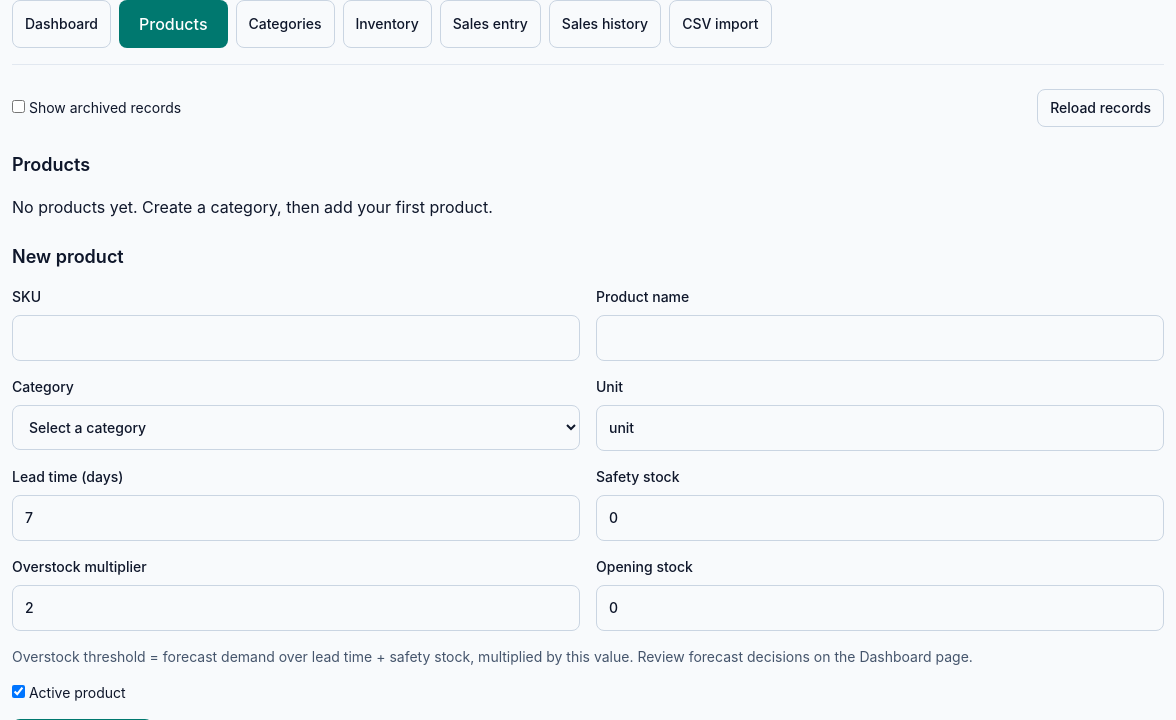
Test: manager creates a product with stock and replenishment configuration
The width and height of the screenshot is (1176, 720).
Type "RICE-1" into the field labelled "SKU".
click(296, 338); type("RICE-1")  # box [12,315,580,361]
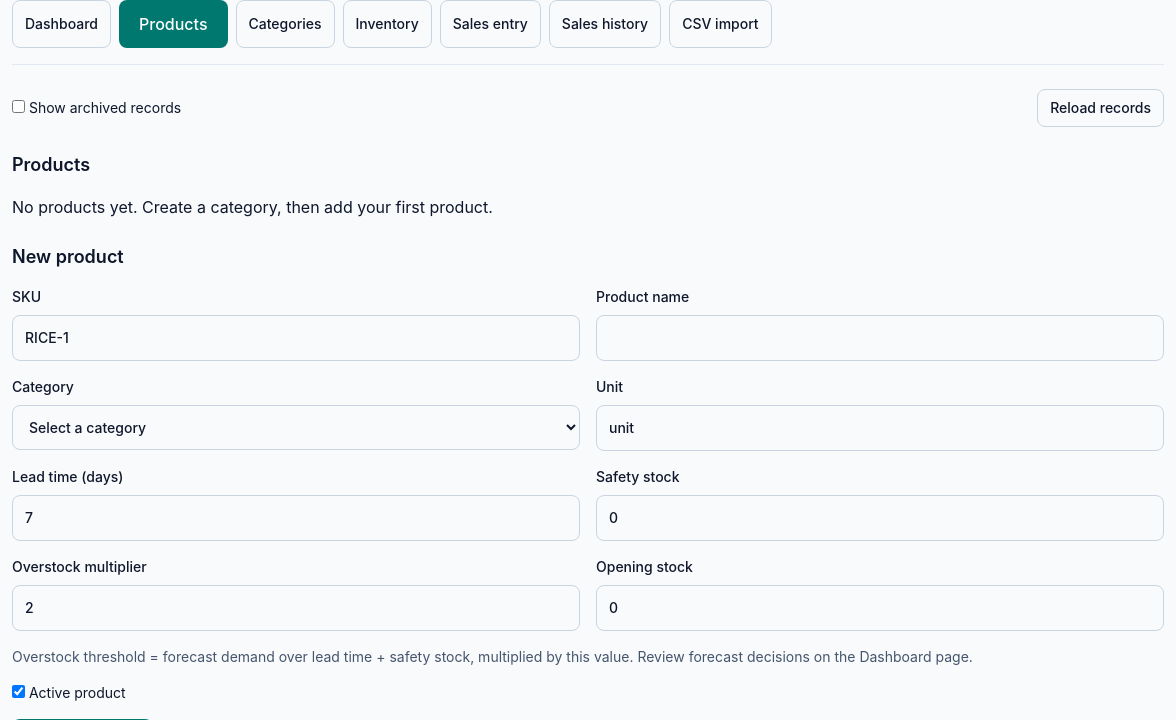
Type "Rice" into the field labelled "Product name".
click(880, 338); type("Rice")  # box [596,315,1164,361]
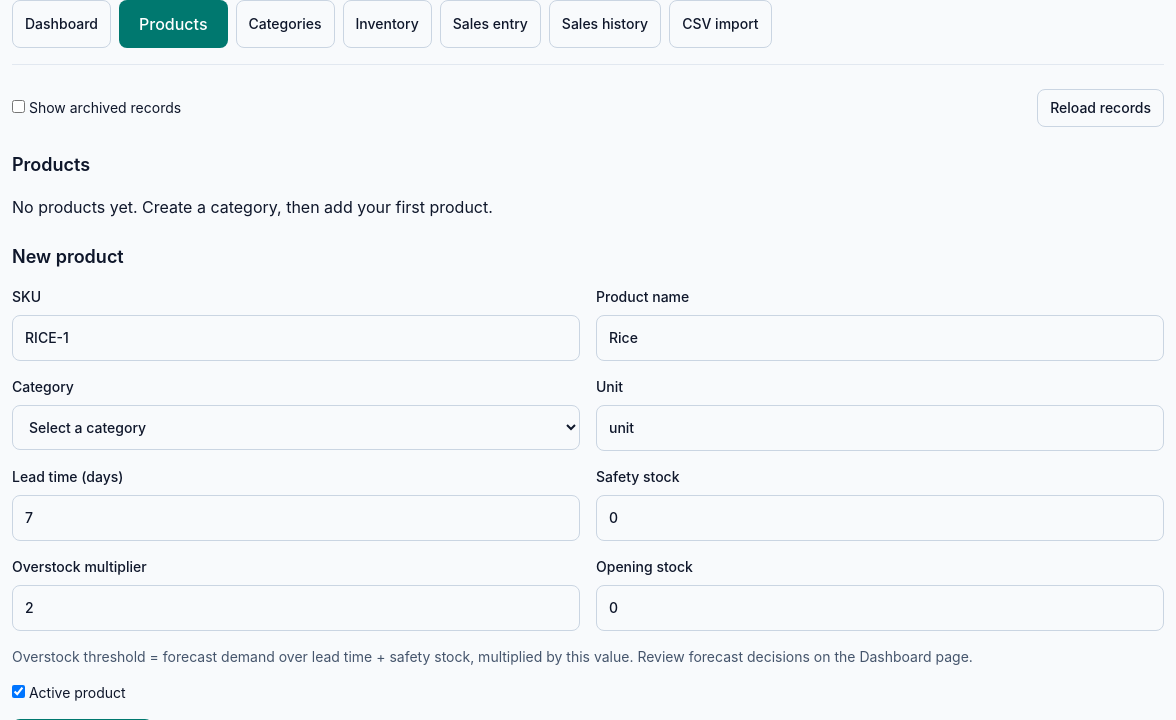
Select "Groceries" in the dropdown labelled "Category" at [296, 428], box [12,405,580,450]
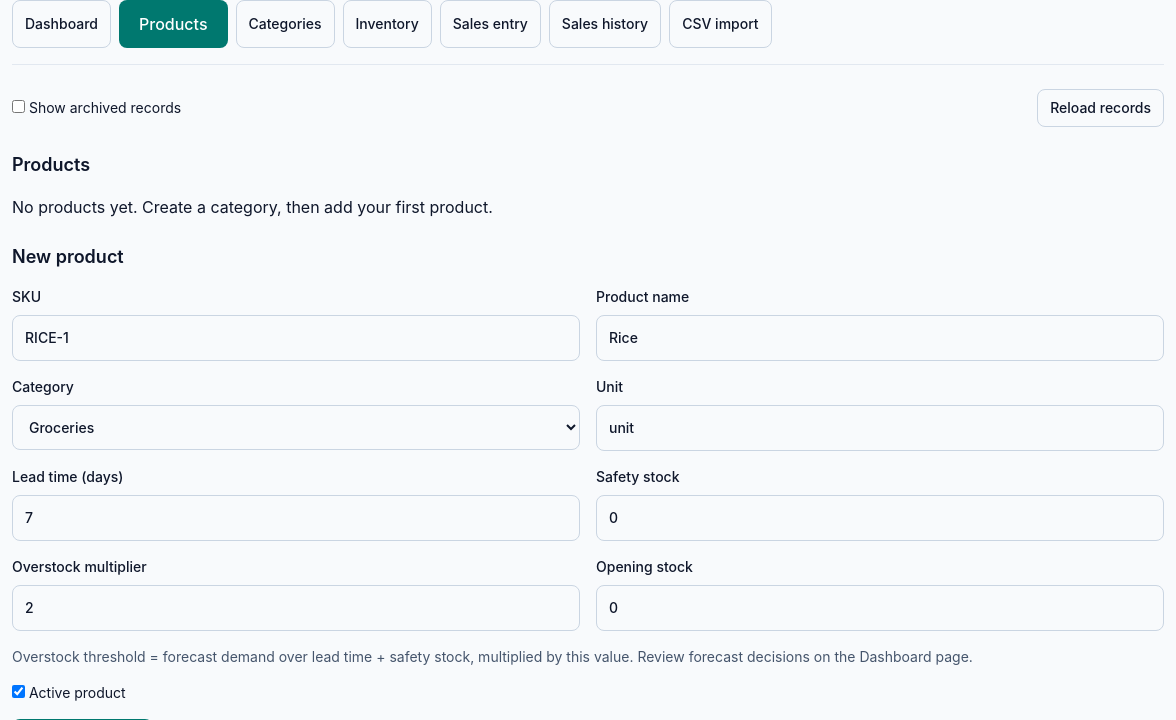
Replace the text in the number field labelled "Opening stock" with "12.5" at [880, 608], box [596,585,1164,631]
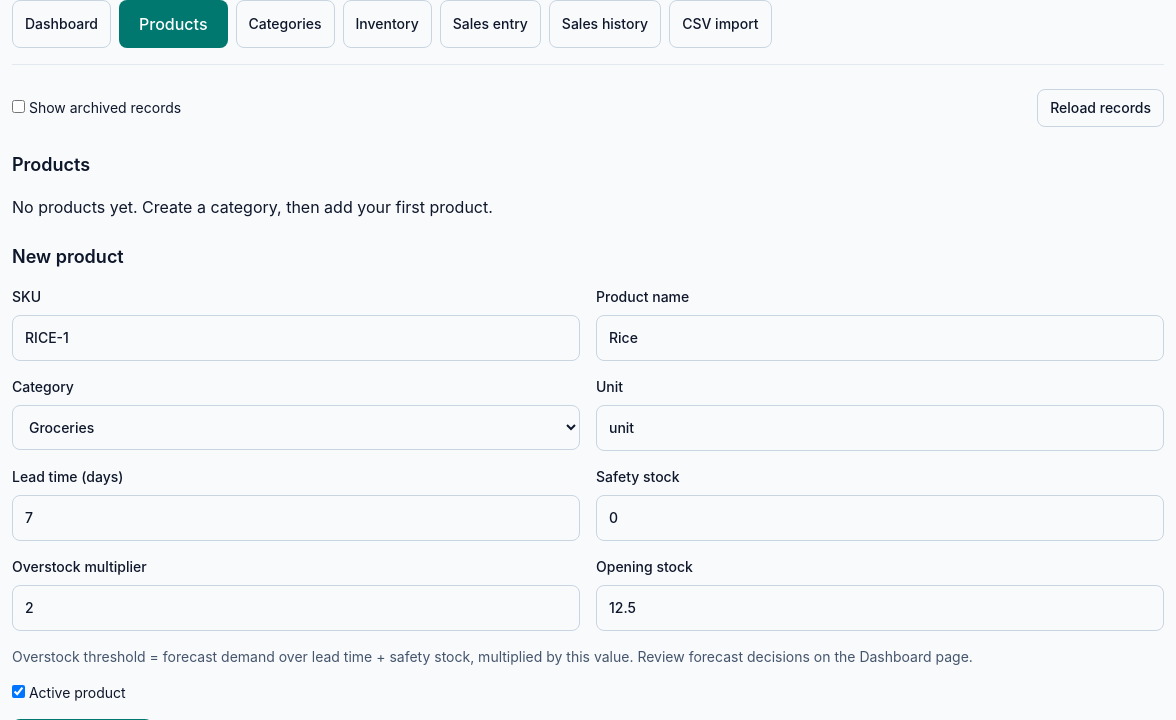
Replace the text in the number field labelled "Safety stock" with "3" at [880, 518], box [596,495,1164,541]
(page scrolled)
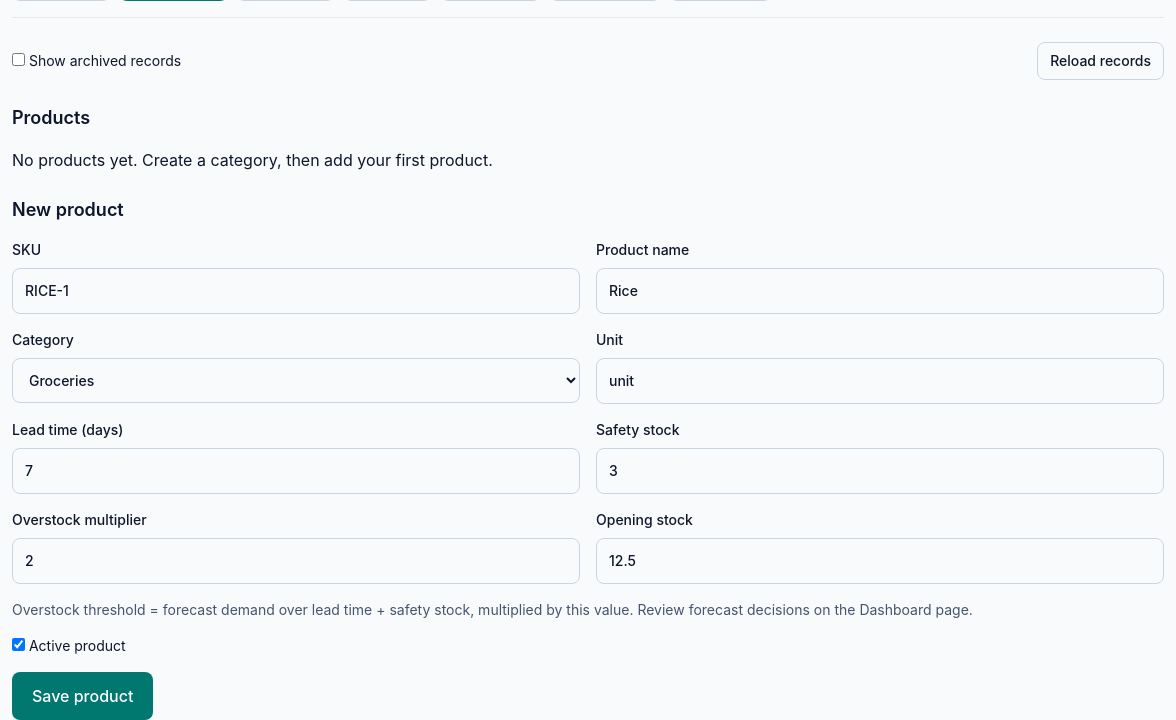
Click the button "Save product".
click(83, 696)  # box [12,672,153,719]
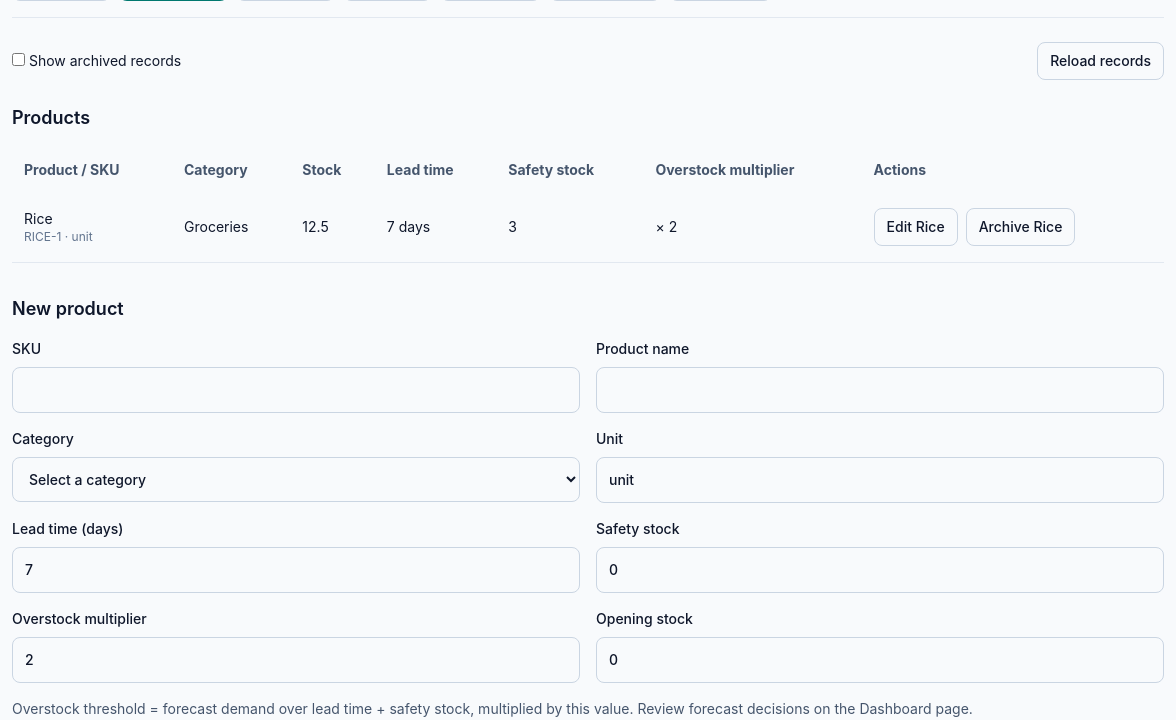
Now the button "Edit Rice" is shown, box [874,208,958,246]
